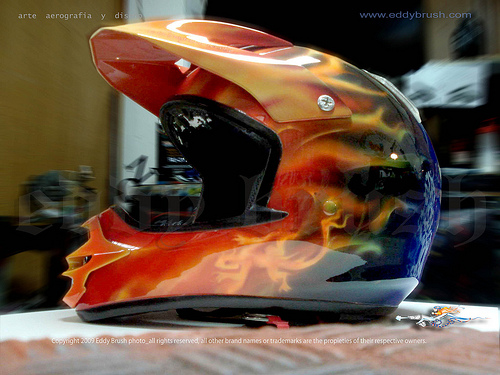helmet: (88, 20, 443, 313)
